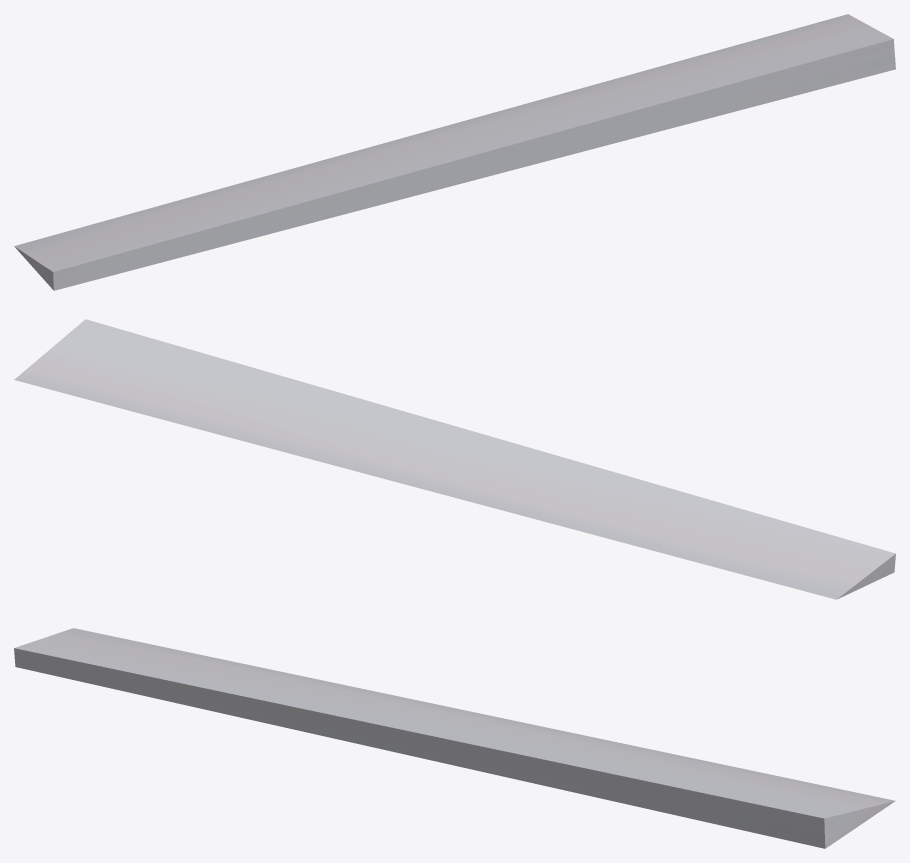
File: RightWingControlsSurface.glb
3 views of the same model, one above another, from view 1: azimuth 30°, elevation 25°; view 2: azimuth 150°, elevation 25°; view 3: azimuth 330°, elevation 25° (orthographic). The views are drawn at different scales.
Parts seen in each view (by area): view 1: Cube; view 2: Cube; view 3: Cube.
Part boxes in pixels (left/top/right/bottom): Cube: left=14, top=14, right=895, bottom=290; Cube: left=14, top=319, right=895, bottom=599; Cube: left=14, top=628, right=895, bottom=848.
Bounding box in the file's own units: 33.61 × 1.97 × 4.12.
Materials: 1 (1 with a texture image).
